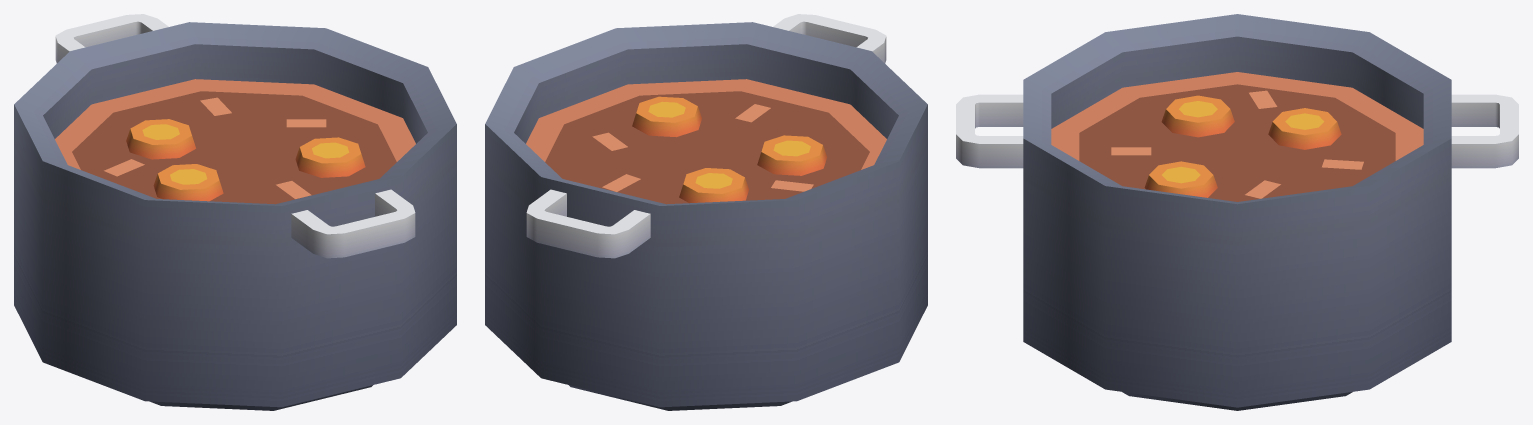
Rendered from pot-stew.glb.
The picture shows the model from 3 angles, left to right: view 1: azimuth 30°, elevation 25°; view 2: azimuth 150°, elevation 25°; view 3: azimuth 270°, elevation 25°; orthographic projection.
Visible parts, largest first — view 1: pot-stew; view 2: pot-stew; view 3: pot-stew.
Part boxes in pixels (left/top/right/bottom): pot-stew: left=14, top=14, right=456, bottom=410; pot-stew: left=485, top=14, right=927, bottom=410; pot-stew: left=956, top=14, right=1518, bottom=410.
Size of the model in its own units: 0.6575 by 0.3608 by 0.8221.
Materials: 1 (1 with a texture image).
